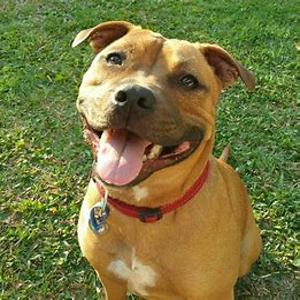dog: (67, 30, 243, 282)
